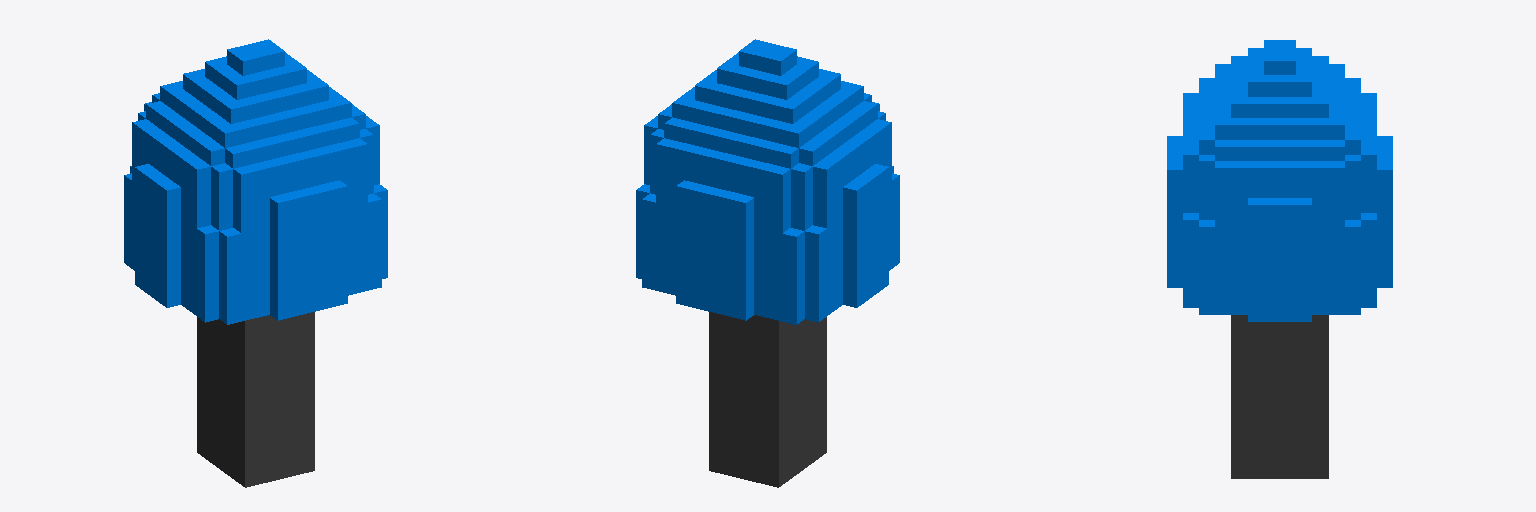
The picture shows the model from 3 angles: view 1: azimuth 30°, elevation 25°; view 2: azimuth 150°, elevation 25°; view 3: azimuth 270°, elevation 25°; orthographic projection.
Size of the model in its own units: 15 by 28 by 14.
Materials: 1 (1 with a texture image).